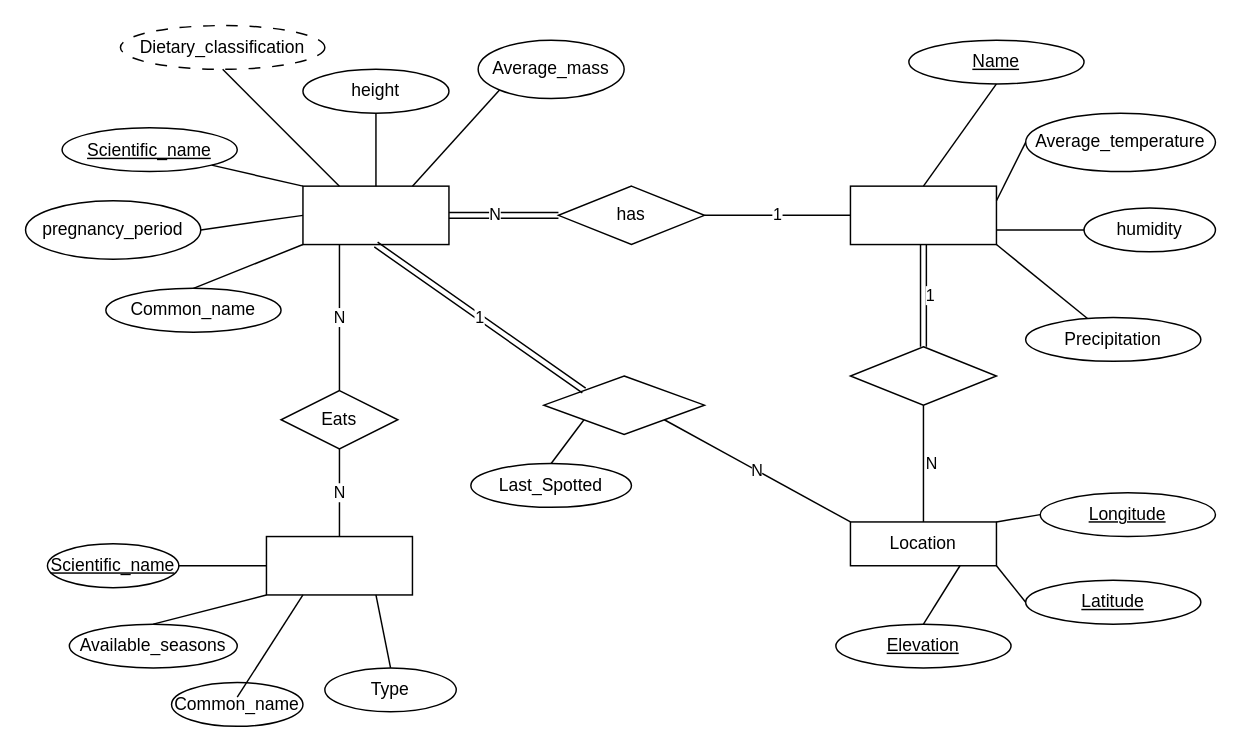
This 1241x752 diagram has some shape labels left out. The centre of each missing label's shape, as x and y in pixels:
"Food" goes at point (338, 565).
"Habitat" goes at point (922, 215).
"Habitat_is_at" goes at point (922, 375).
"is_at" goes at point (623, 404).
"Mammal" goes at point (375, 215).
